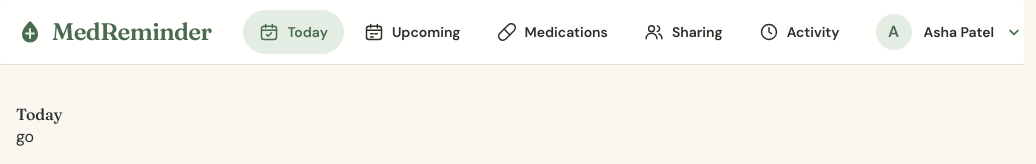
it: AppShell: focus and transitions on navigation › moves focus to the main content (and wraps it for the page transition) when another page opens
Step 1. Click the link "go" → (25, 137), box [16, 126, 34, 147]
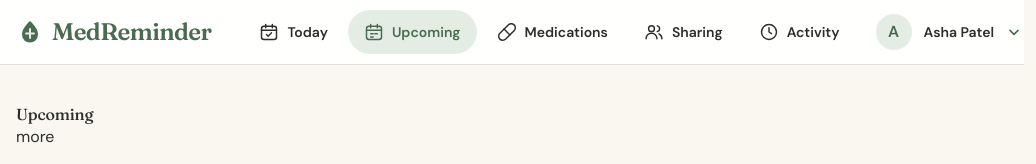
Expected: the heading "Upcoming" is shown, [16, 104, 94, 124]
